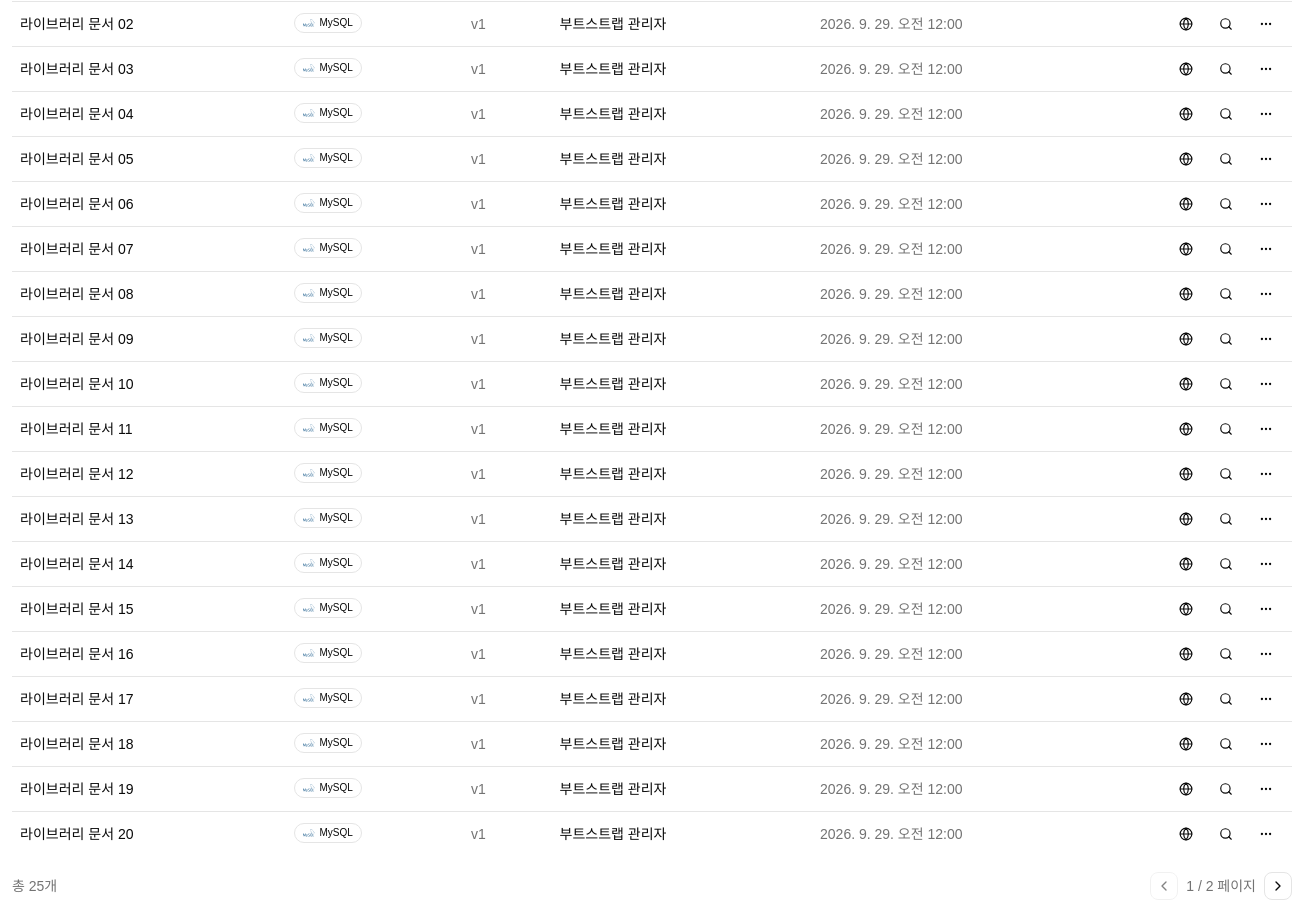
Scenario: ERD 탭 — 문서 목록 페이징 › 한 페이지(20)를 넘는 워크스페이스는 총 건수·페이지 표시로 묶음을 오간다
This screenshot has width=1304, height=900.
(page scrolled)
Expected: the button "라이브러리 문서 20" is shown, [20,824,134,844]
Expected: the text "라이브러리 문서 21" is not shown
Click the button named "다음" at (1278,886), box [1264,872,1292,899]
(page scrolled)
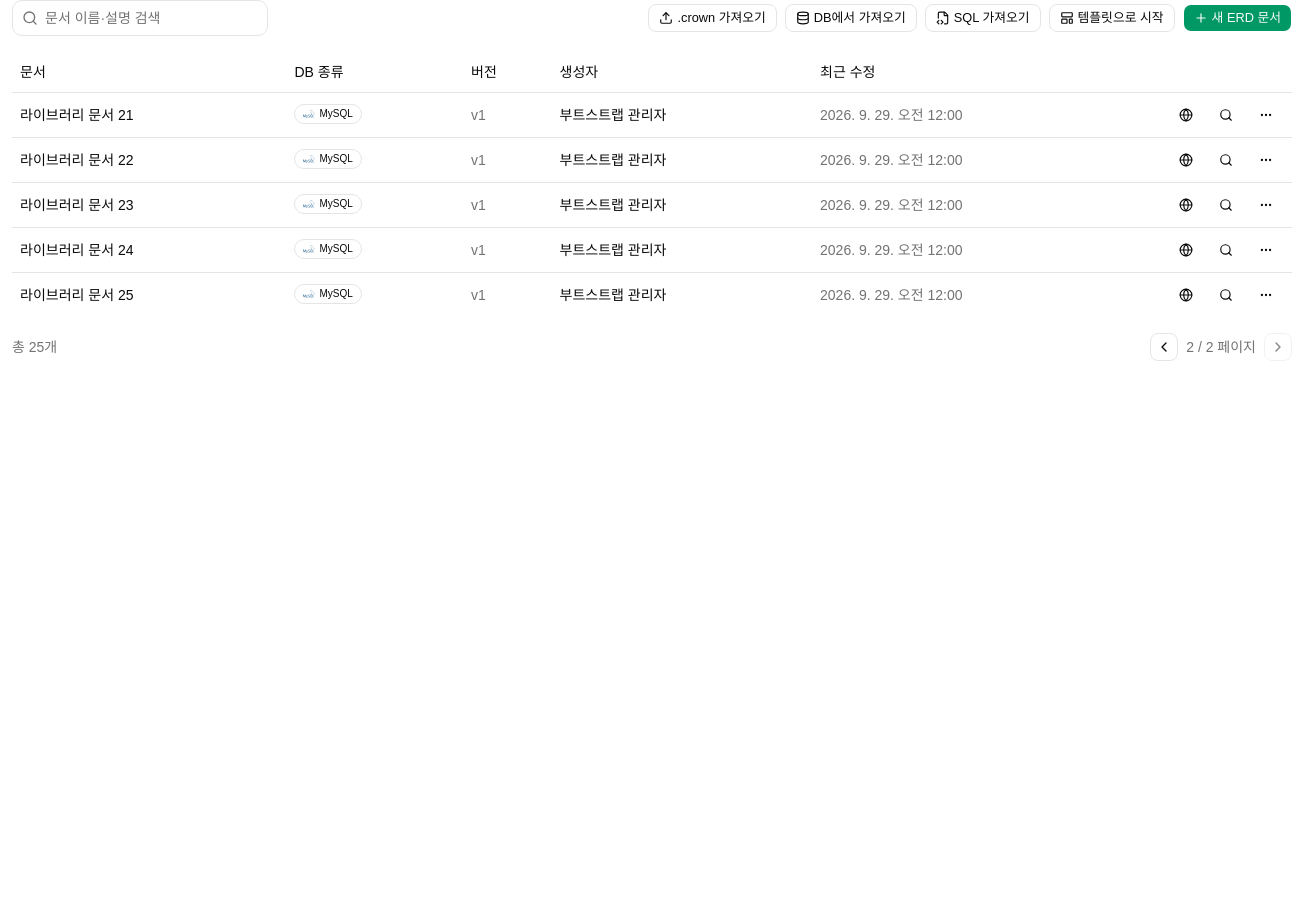
Expected: the button "라이브러리 문서 21" is shown, [20,104,134,124]
Expected: the button "라이브러리 문서 25" is shown, [20,284,134,304]
Expected: the button named "다음" is disabled, [1264,332,1292,360]
